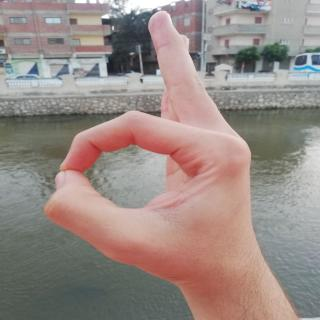Space: (47, 7, 262, 291)
